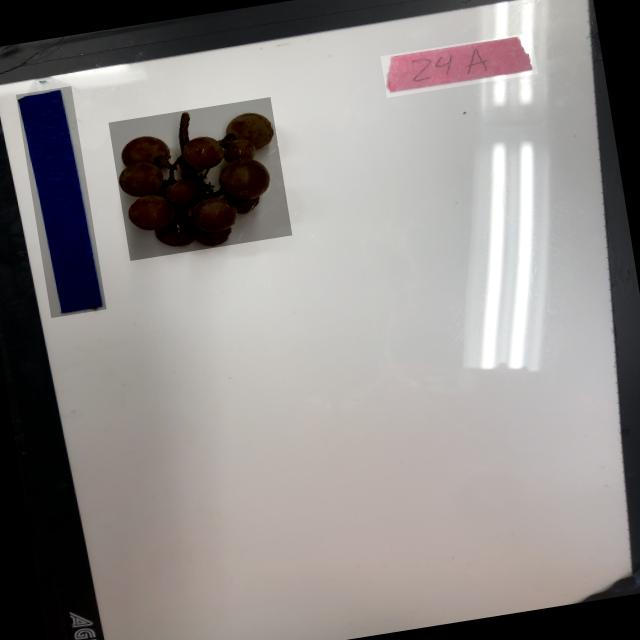grape_cluster: (109, 98, 292, 262)
index: (381, 33, 538, 98)
measure_label: (17, 86, 108, 318)
